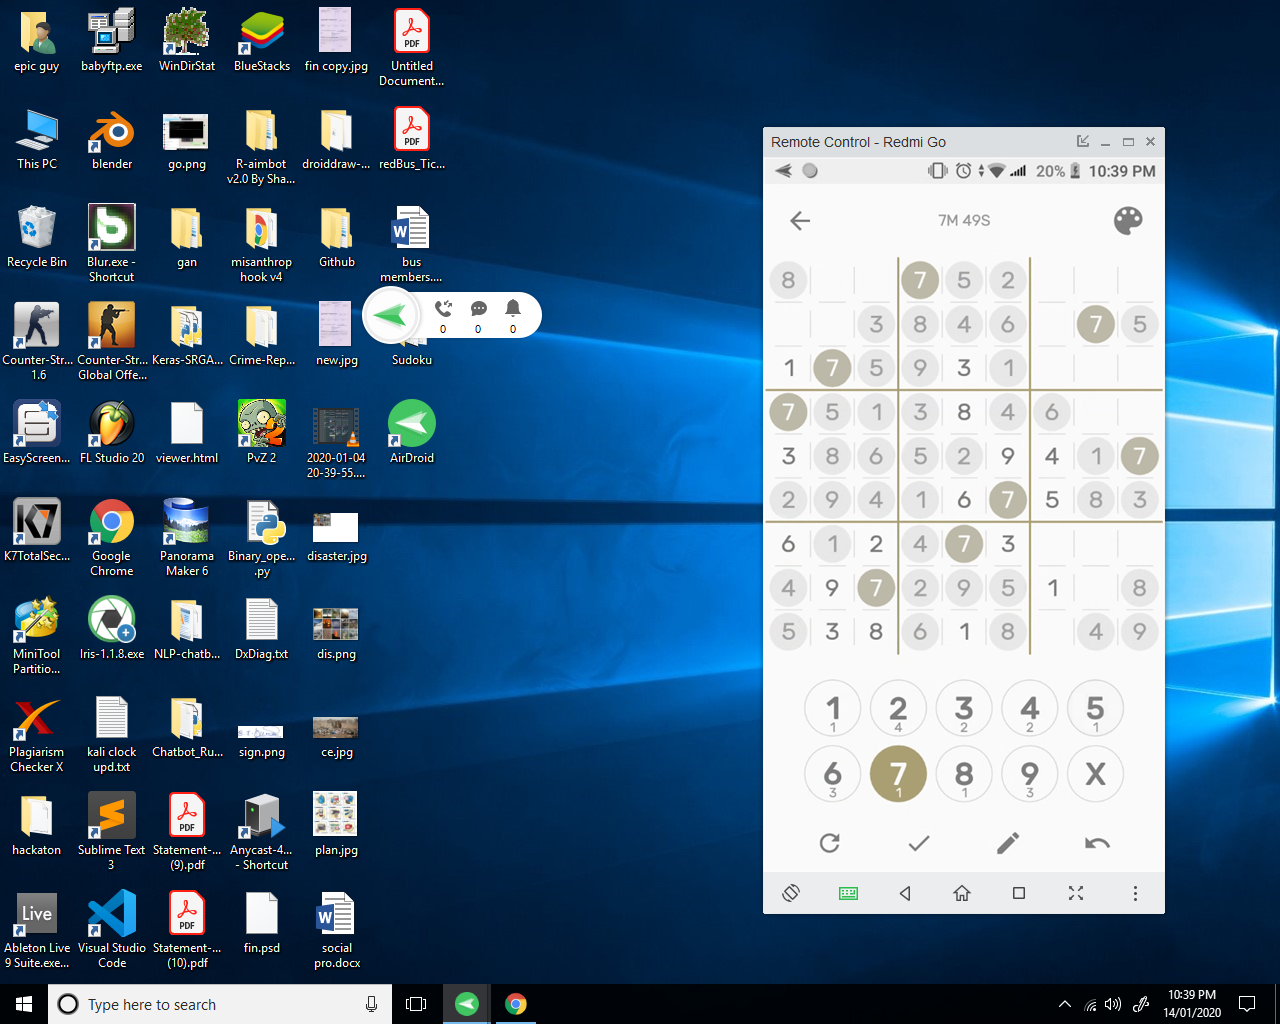7A: (863, 739, 932, 805), (1072, 296, 1118, 349), (1113, 432, 1163, 478), (764, 388, 811, 436), (853, 565, 898, 611), (939, 523, 987, 566), (809, 347, 854, 390), (899, 261, 941, 303), (990, 478, 1029, 522)
X: (1062, 737, 1135, 816)
box: (763, 157, 1166, 872)
